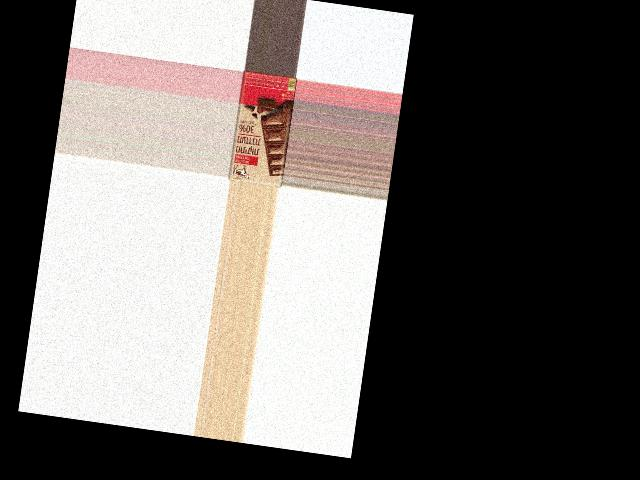chocolate: (227, 70, 296, 188)
